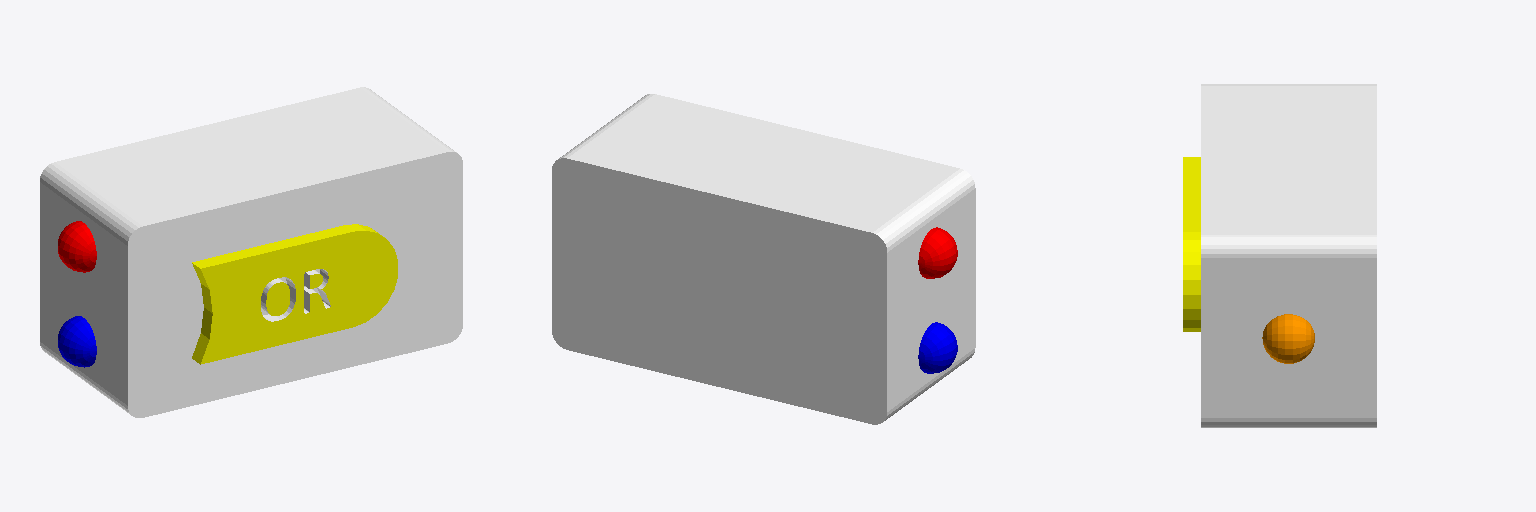
Rendered from ModOrGate.obj.
The picture shows the model from 3 angles: view 1: azimuth 30°, elevation 25°; view 2: azimuth 150°, elevation 25°; view 3: azimuth 270°, elevation 25°; orthographic projection.
Visible parts, largest first — view 1: ModOrGate; view 2: ModOrGate; view 3: ModOrGate.
Part boxes in pixels (bbox=[...]): ModOrGate: bbox=[40, 87, 462, 417]; ModOrGate: bbox=[552, 94, 975, 424]; ModOrGate: bbox=[1183, 84, 1376, 427].
Bounding box in the file's own units: 2.5 × 1.2 × 1.1.